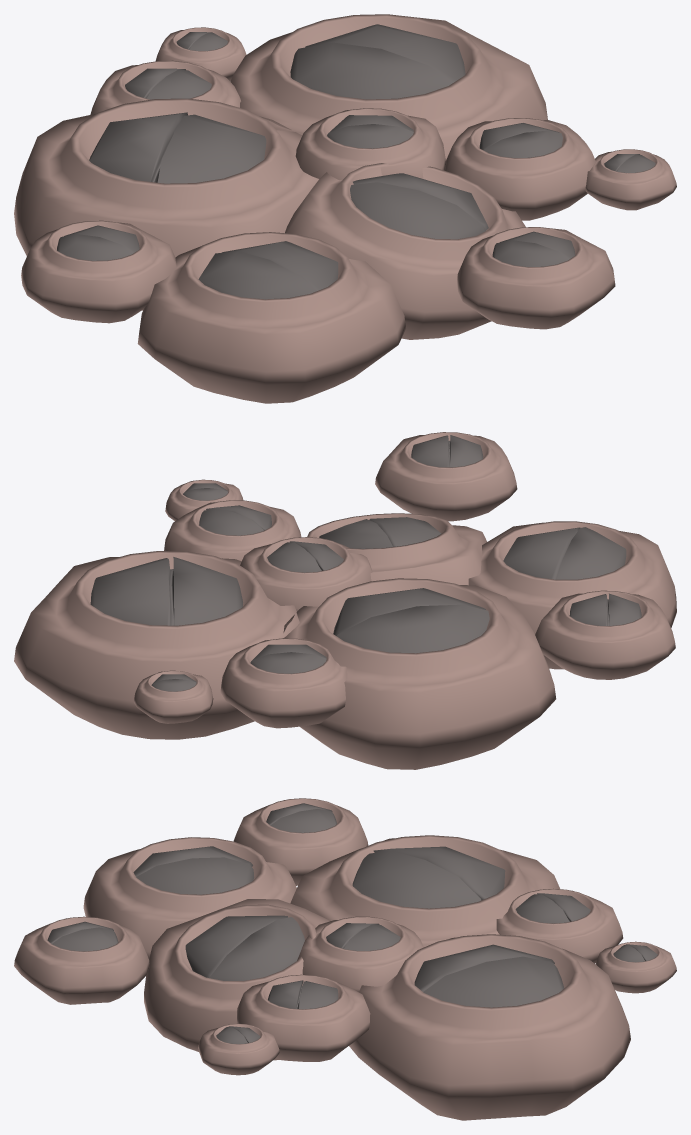
File: SM_Barnacles_Small_Placeholder.fbx
3 renders of one model, top to bottom at view 1: azimuth 30°, elevation 25°; view 2: azimuth 150°, elevation 25°; view 3: azimuth 270°, elevation 25°, orthographic. The views are drawn at different scales.
Parts seen in each view (by area): view 1: SM_Barnacles_Small; view 2: SM_Barnacles_Small; view 3: SM_Barnacles_Small.
Boxes of the visible parts, box(x1,y1,x2,y2) form: SM_Barnacles_Small: box(14, 14, 676, 403); SM_Barnacles_Small: box(14, 432, 676, 769); SM_Barnacles_Small: box(14, 798, 676, 1120).
Size of the model in its own units: 142 by 36.8 by 157.
